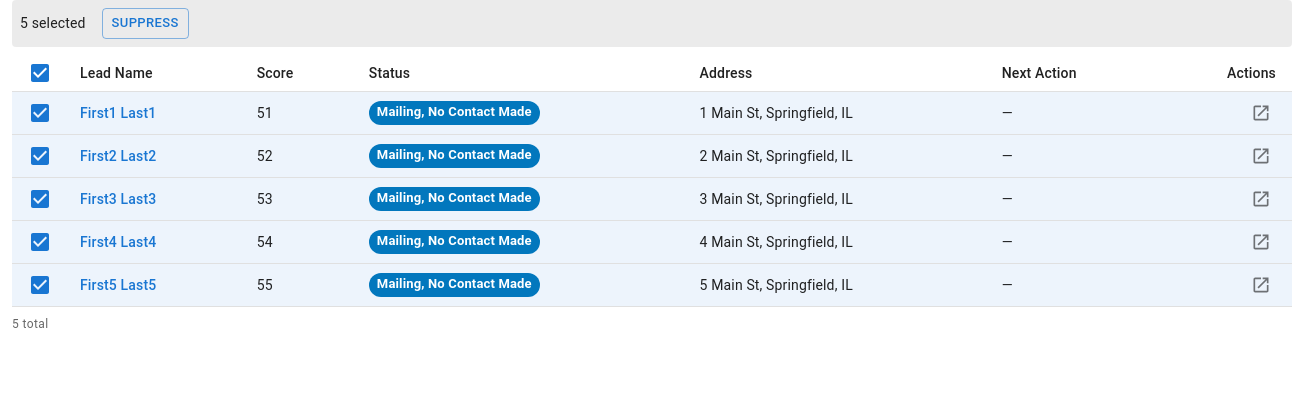
it: QueueTable › bulk partial failure summary › shows "X succeeded, Y failed" message on partial bulk action failure
Step 1. Click the button with test id "bulk-suppress" → coordinates (145, 23), box 102,8 -> 189,39
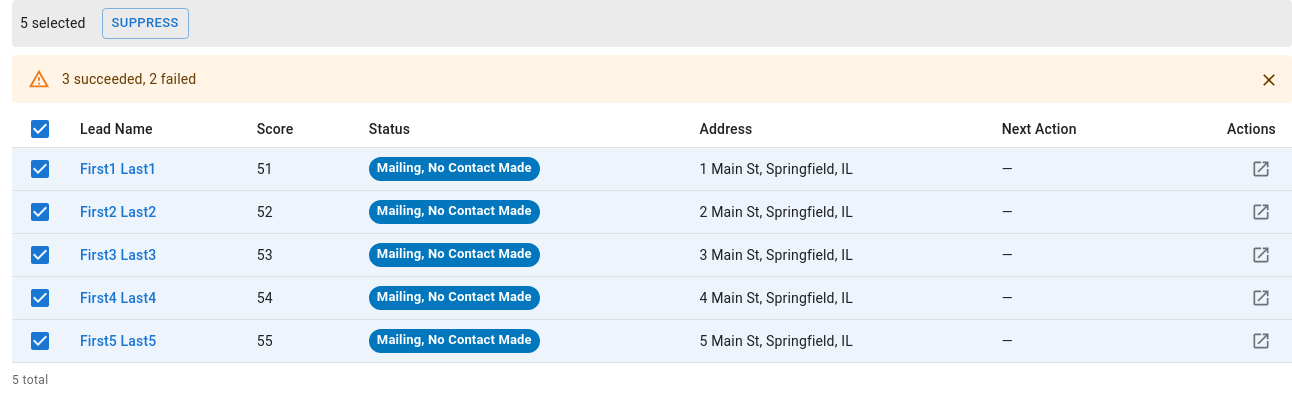
Expected: the message "3 succeeded, 2 failed" is shown, 12,55 -> 1291,103
Expected: the text "3 succeeded, 2 failed" is shown, 62,69 -> 196,89
